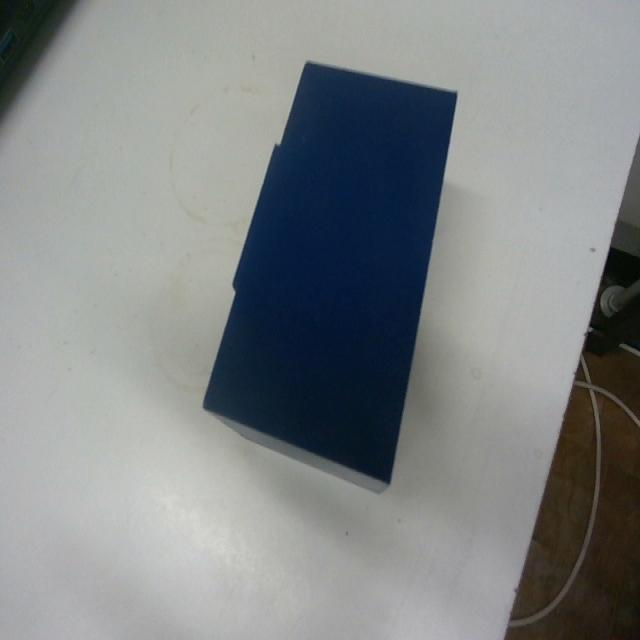Blue Cuboid: (201, 58, 458, 494)
